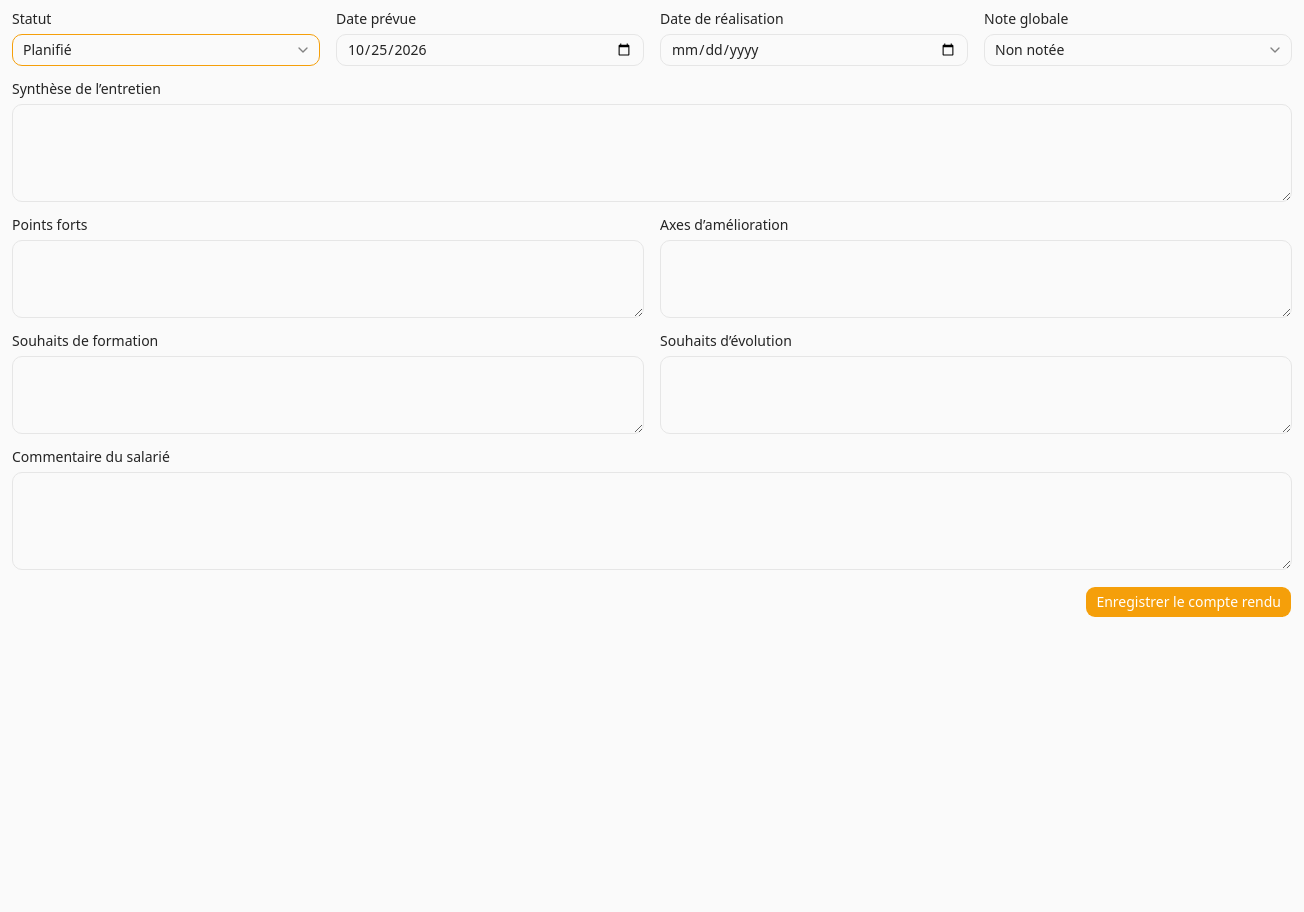
Test: CompteRenduForm › exige la date de réalisation pour passer « Réalisé »
The image size is (1304, 912).
Press ArrowDown in the dropdown named "Statut de l’entretien", box [12,34,320,66]
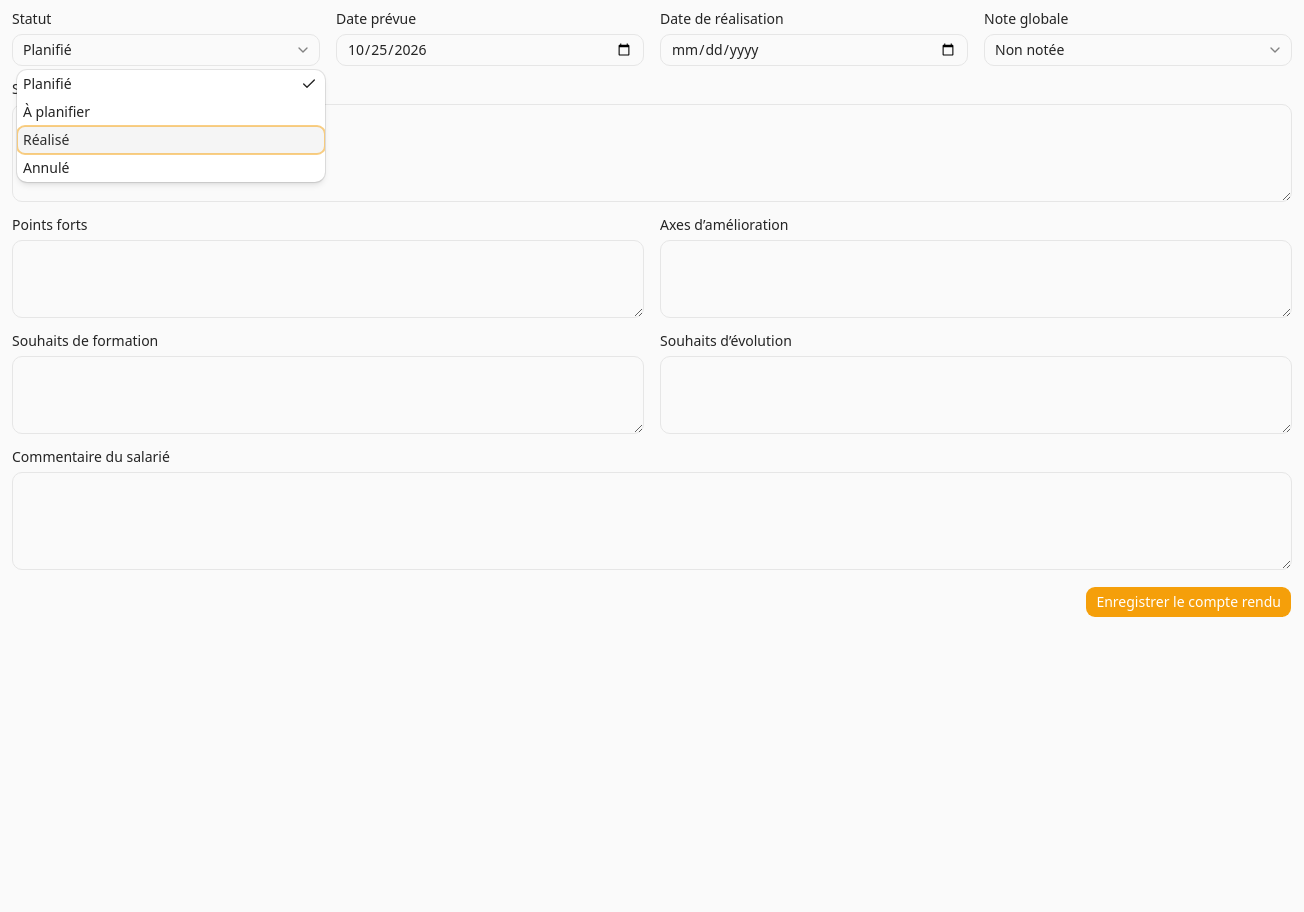
Press Enter in the option "Réalisé", box [17,126,325,154]
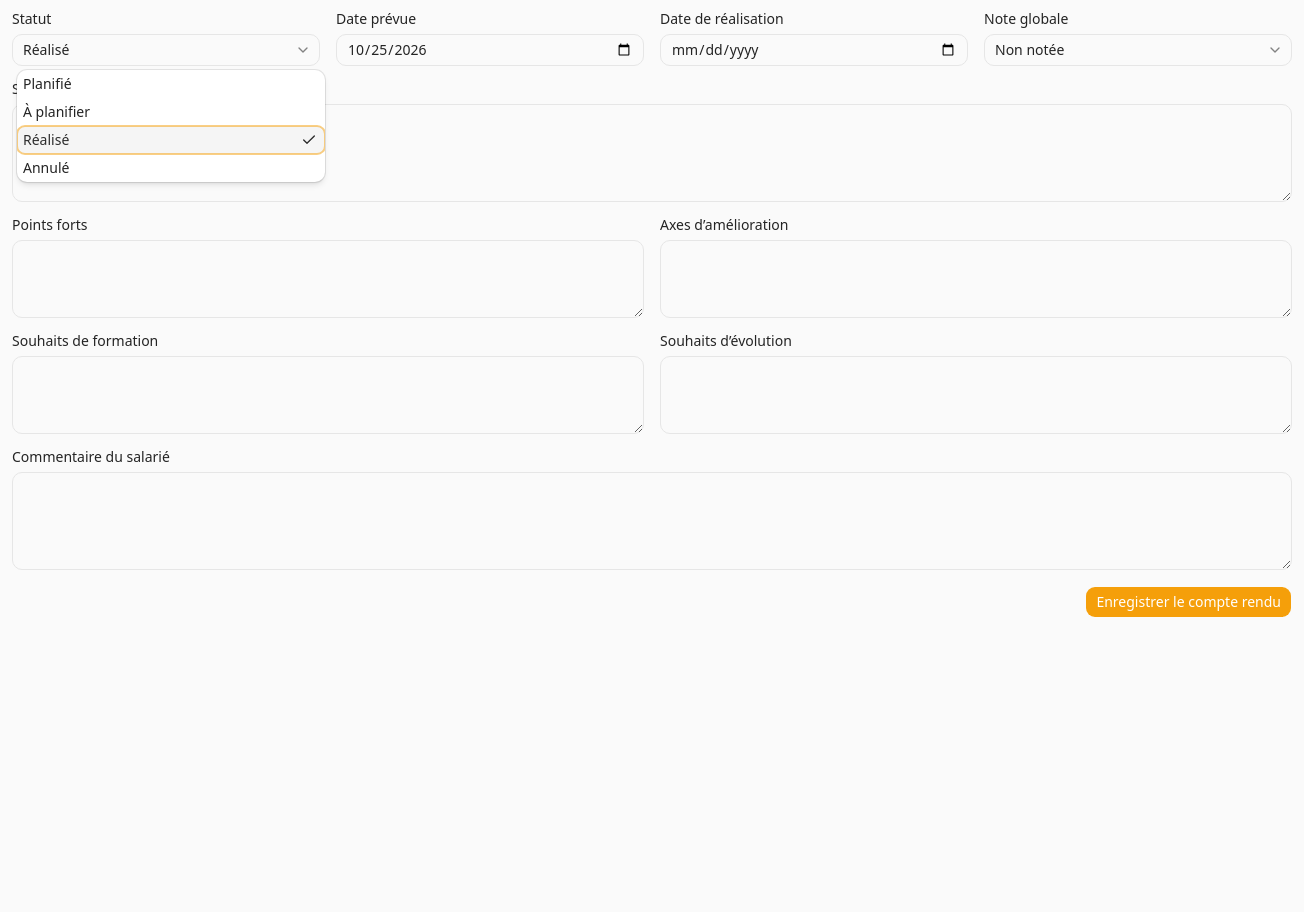
Click the button "Enregistrer le compte rendu".
click(1189, 602)  # box [1085,586,1292,618]
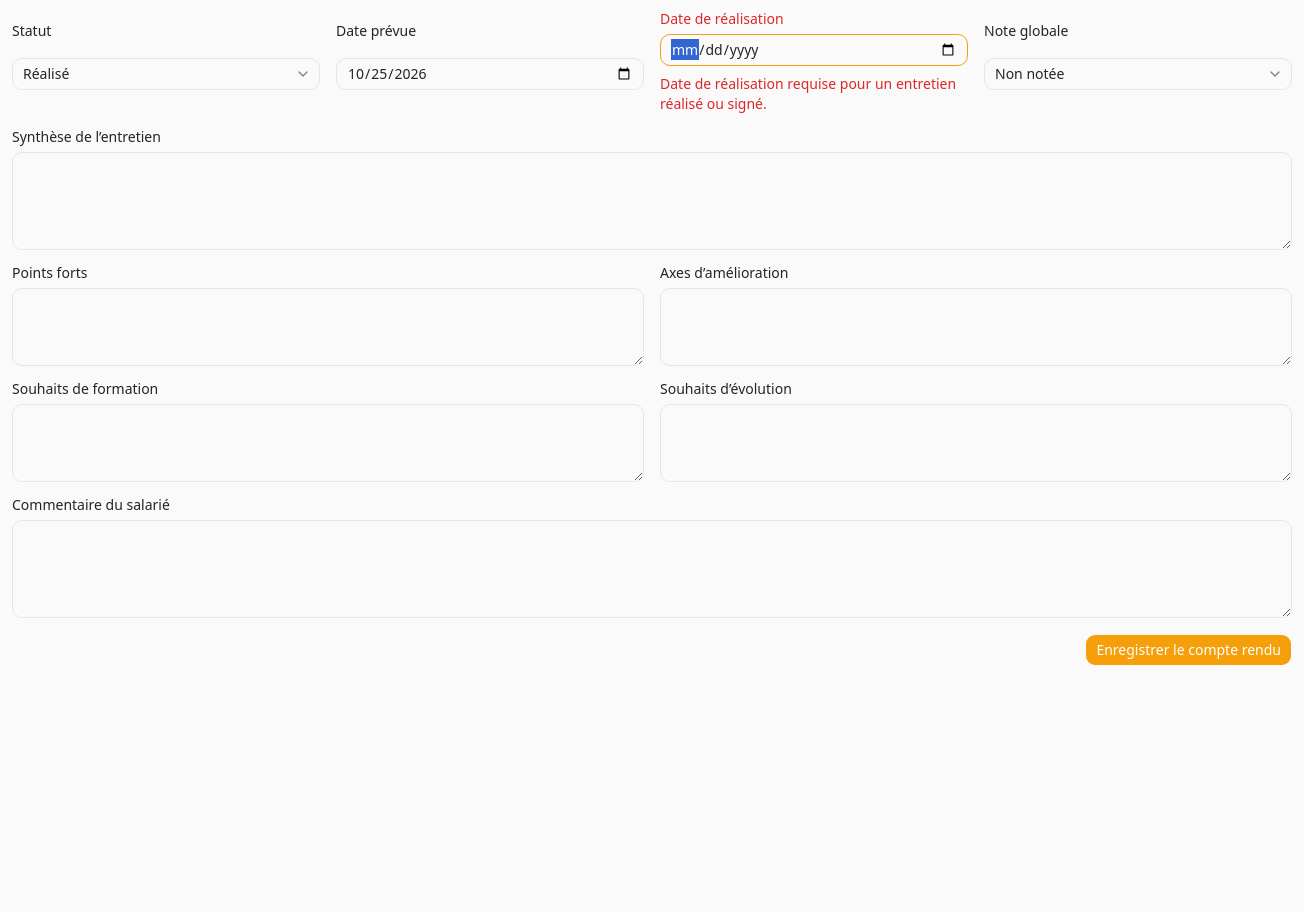
Check: the text "Date de réalisation requise" is shown, box [660,74,956,113]
